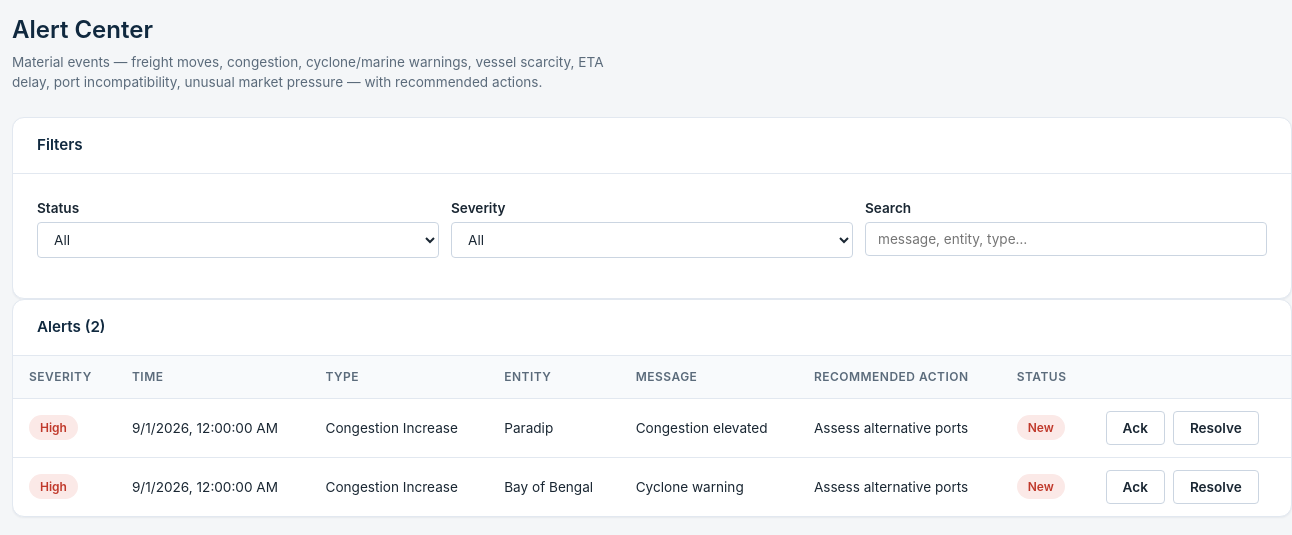
Test: AlertsPage › filters by client-side search
Expected: the text "Congestion elevated" is shown, left=620, top=398, right=798, bottom=457
In the field with placeholder "message, entity, type…": (1066, 239) left=865, top=222, right=1267, bottom=256, type "cyclone"
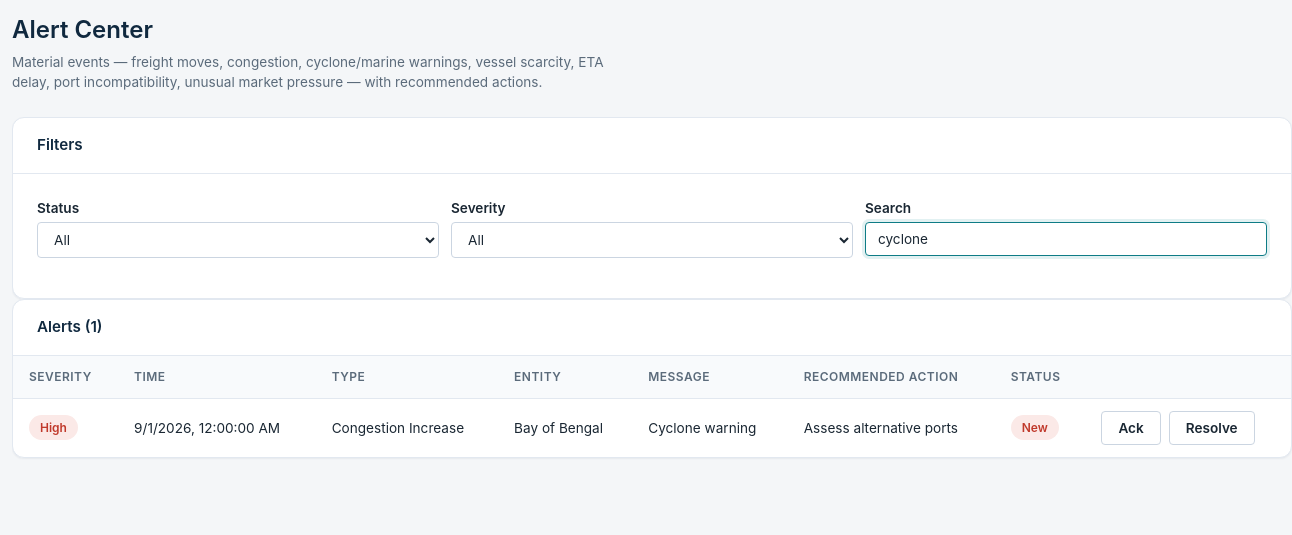
Expected: the text "Cyclone warning" is shown, left=632, top=398, right=788, bottom=457
Now the text "Congestion elevated" is gone
